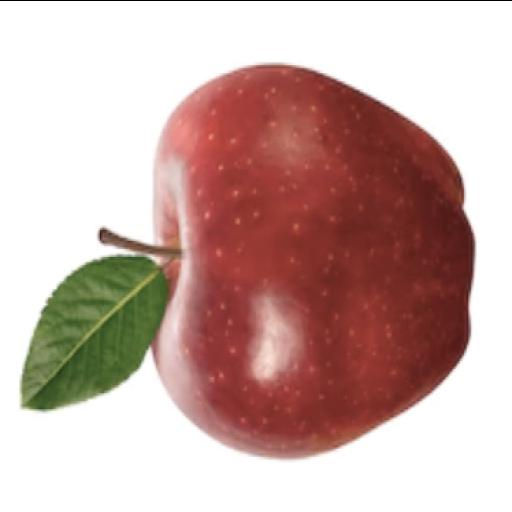apple: (152, 65, 473, 456)
